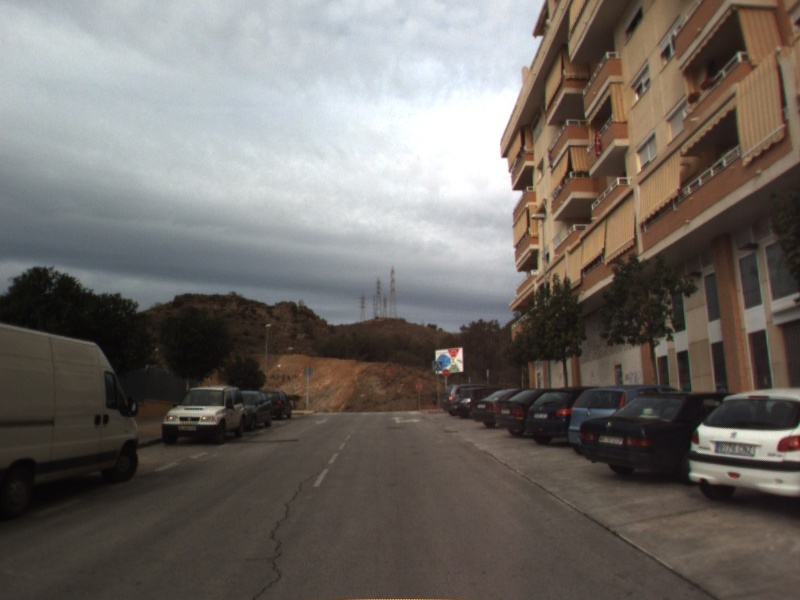STRAIGHT_RIGHT: (389, 414, 423, 425)
